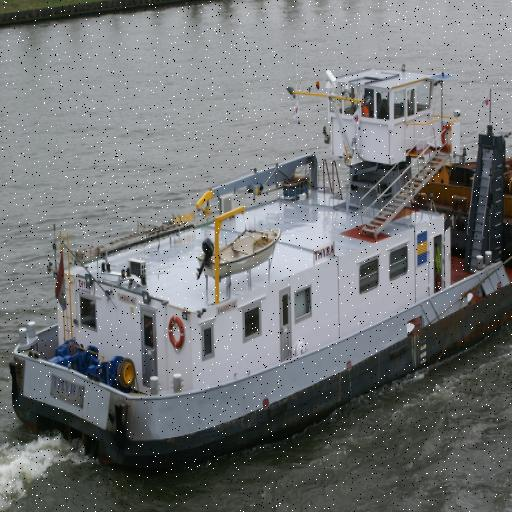tugboat: (8, 56, 512, 503)
